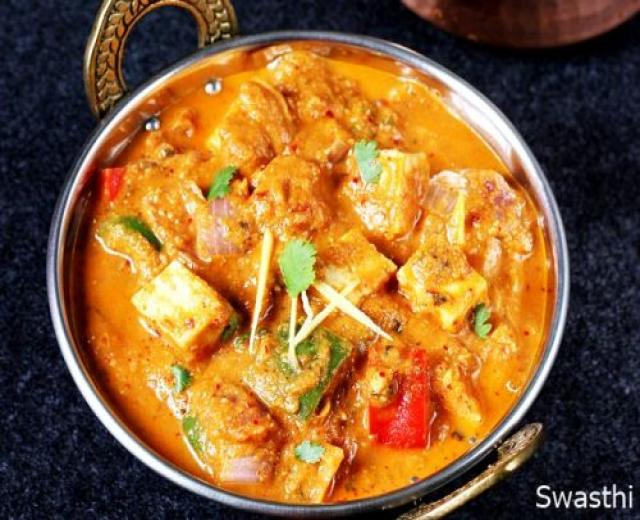kadai paneer: (74, 51, 547, 501)
